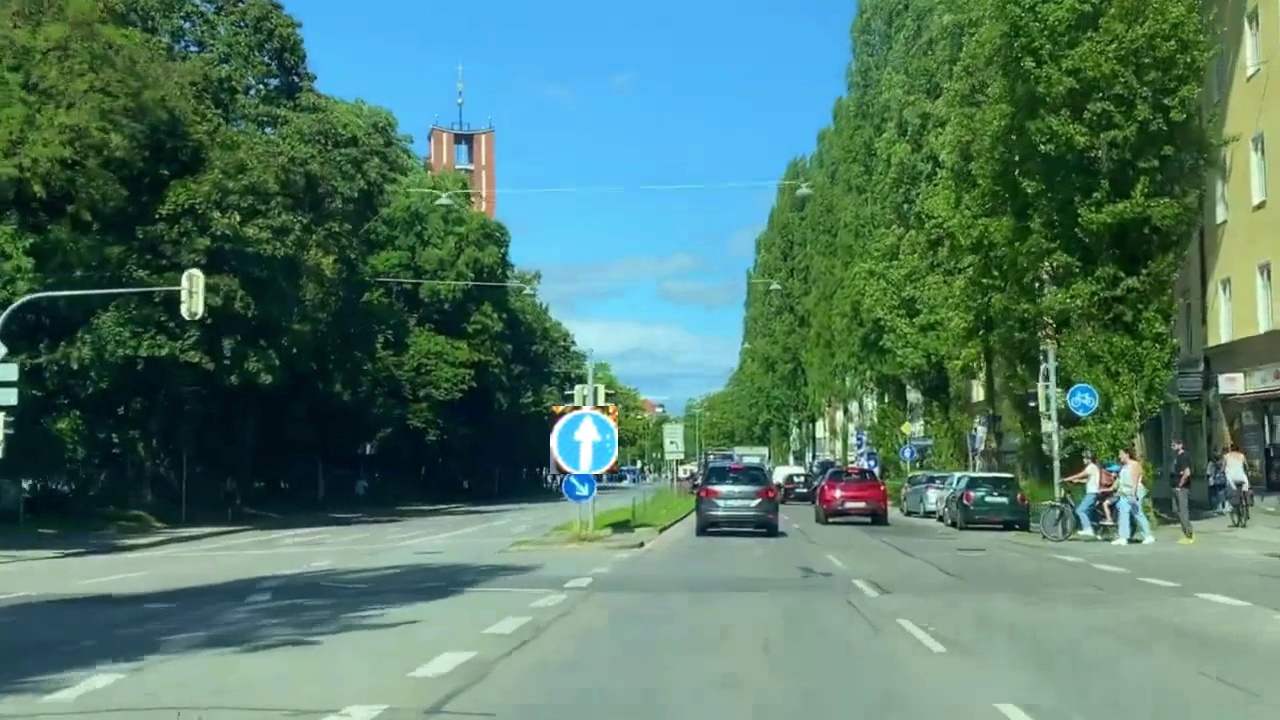Ahead only: (550, 406, 618, 474)
